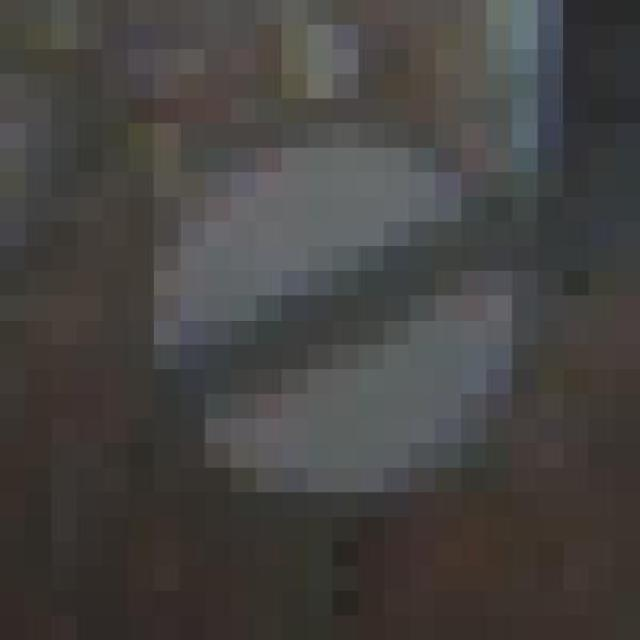End of all speed and passing limits: (128, 123, 563, 517)
